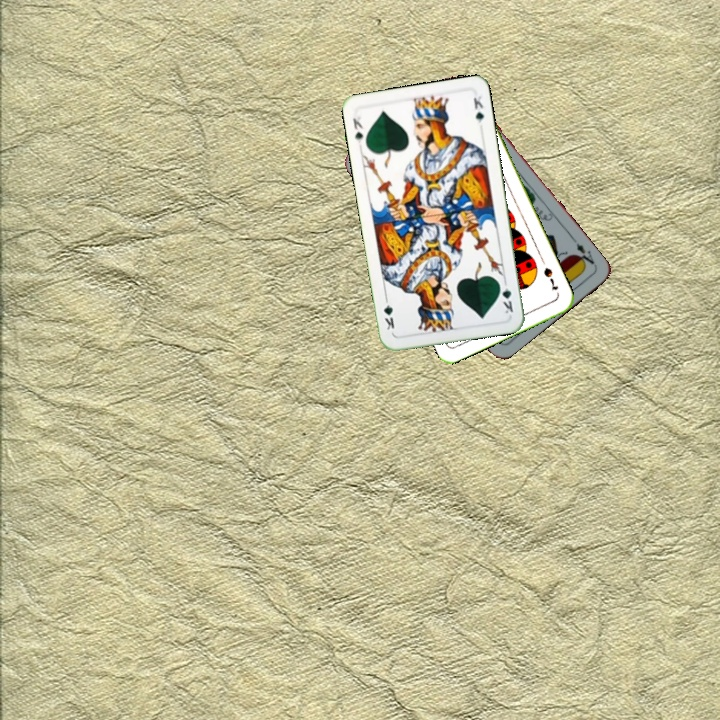EA: (569, 235, 599, 270)
GK: (495, 277, 516, 316), (349, 112, 366, 145)
S7: (539, 263, 560, 293)
